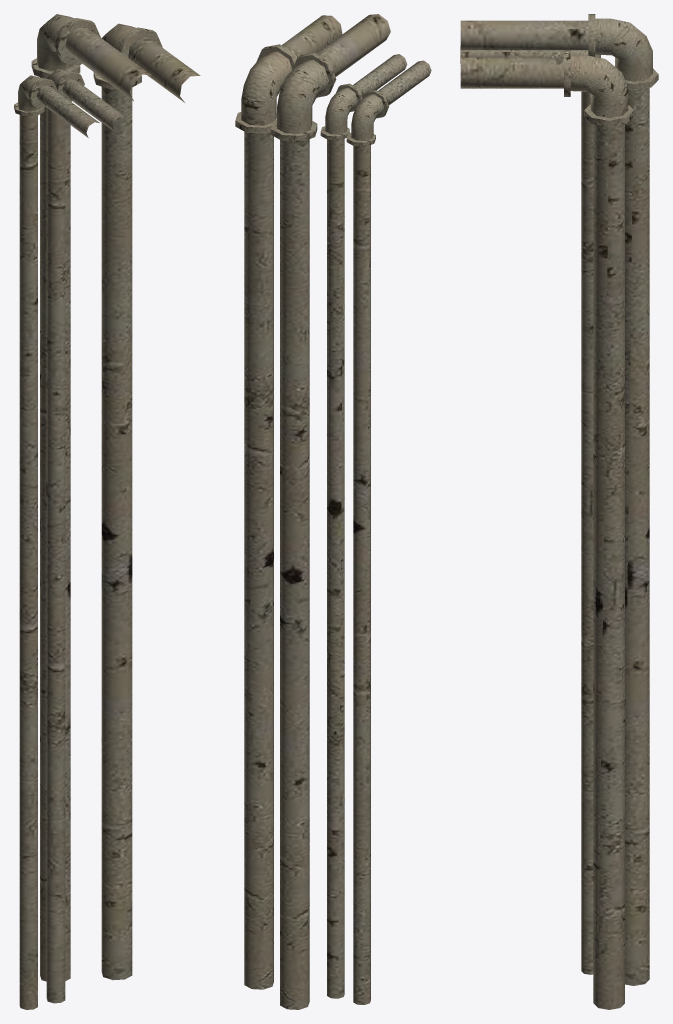
The model's file is pipecluster001c.glb.
The picture shows the model from 3 angles, left to right: view 1: azimuth 30°, elevation 25°; view 2: azimuth 150°, elevation 25°; view 3: azimuth 270°, elevation 25°; orthographic projection. The views are drawn at different scales.
Visible parts, largest first — view 1: 0_prison_yard001; view 2: 0_prison_yard001; view 3: 0_prison_yard001.
Boxes of the visible parts, x1,y1,x2,y2 form: 0_prison_yard001: (14,14,200,1009); 0_prison_yard001: (235,14,431,1009); 0_prison_yard001: (460,14,658,1009).
Size of the model in its own units: 0.4919 by 3.42 by 0.635.
1 material, 1 textured.
